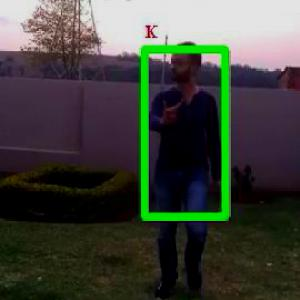takeoff-hand: (151, 85, 189, 128)
